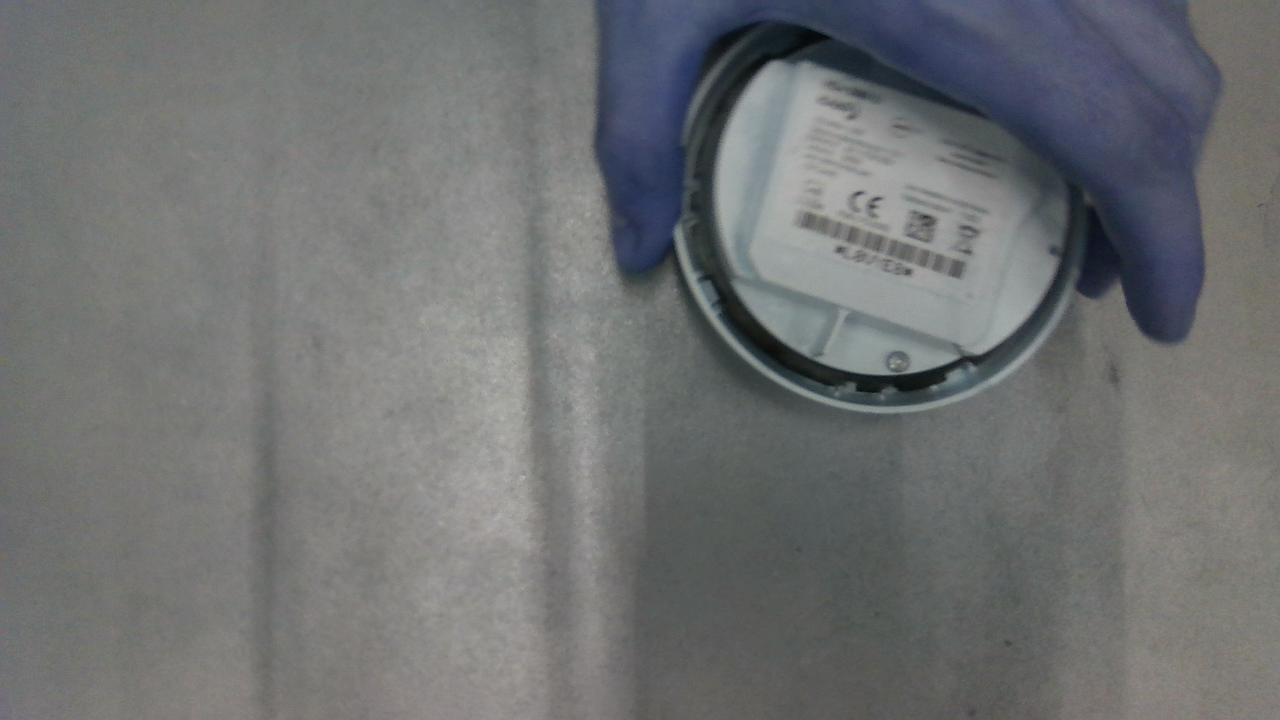HexScrew: (886, 351, 909, 371)
